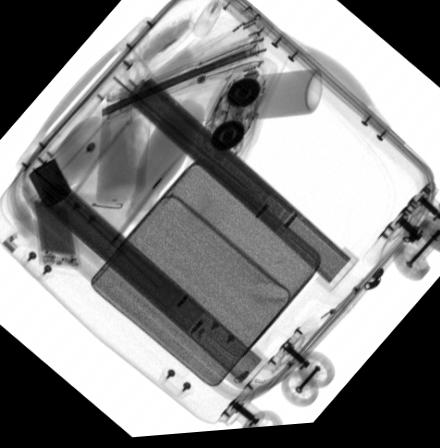Lighter: (27, 156, 71, 208)
Powerbank: (30, 194, 79, 268)
Sprayer: (203, 72, 323, 124)
